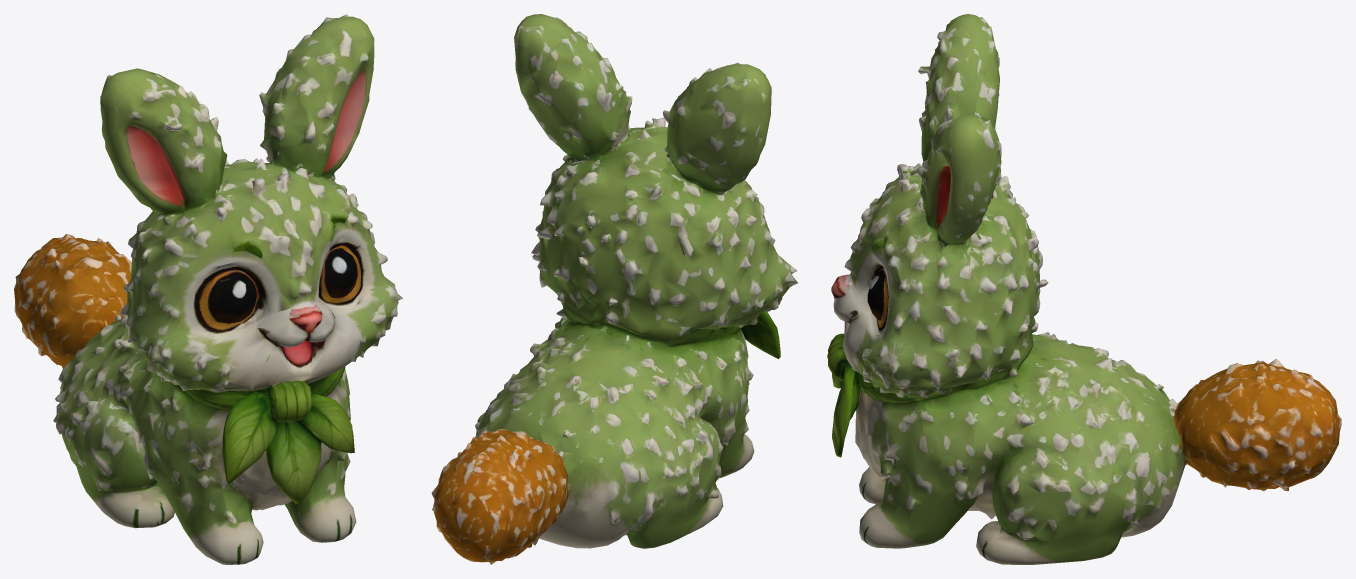
File: kleponci.glb
3 views of the same model, side by side, from view 1: azimuth 30°, elevation 25°; view 2: azimuth 150°, elevation 25°; view 3: azimuth 270°, elevation 25° (orthographic). The views are drawn at different scales.
Parts seen in each view (by area): view 1: textured_mesh.obj; view 2: textured_mesh.obj; view 3: textured_mesh.obj.
Boxes of the visible parts, <box> form: textured_mesh.obj: <box>14,14,402,564</box>; textured_mesh.obj: <box>431,14,797,564</box>; textured_mesh.obj: <box>827,14,1341,564</box>.
Bounding box in the file's own units: 0.4155 × 0.6997 × 0.7222.
1 material, 1 textured.
